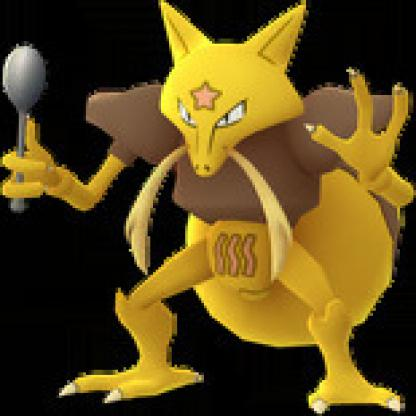Alakazam: (14, 1, 415, 415)
